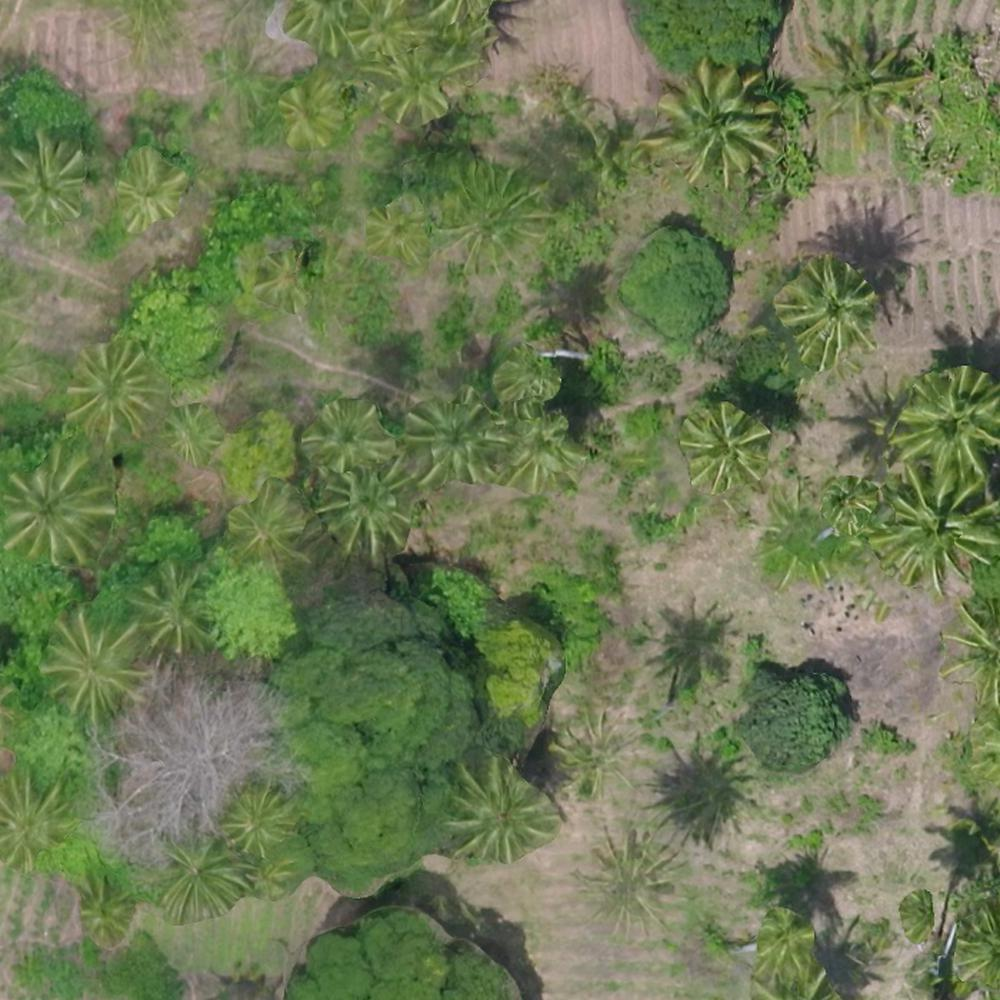Palm: (877, 465, 996, 591), (653, 65, 770, 182), (807, 29, 919, 145), (895, 373, 1000, 486), (4, 447, 105, 564), (46, 607, 150, 717), (779, 261, 878, 366), (585, 827, 679, 928), (445, 762, 546, 855), (404, 397, 497, 490), (65, 345, 154, 439), (313, 471, 412, 555), (220, 486, 309, 578), (496, 406, 587, 494), (5, 132, 87, 226), (130, 562, 216, 649), (4, 775, 80, 871), (685, 404, 769, 490), (302, 400, 391, 477), (553, 716, 637, 796), (114, 151, 187, 227), (220, 789, 293, 857), (280, 78, 344, 146), (348, 4, 419, 63), (160, 406, 220, 469)
